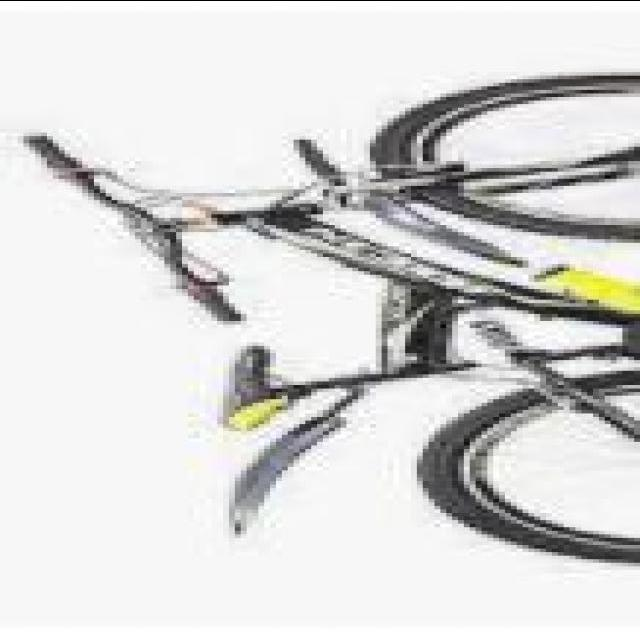bicycle: (48, 72, 640, 570)
